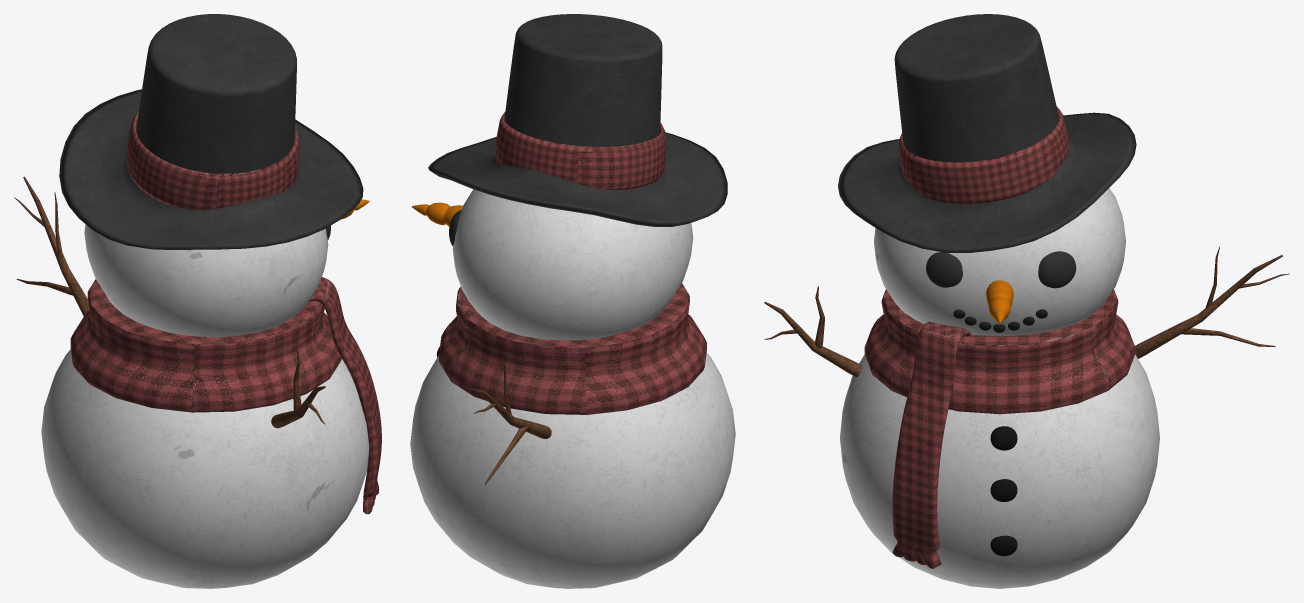
The model's file is snow_man_2.glb.
The picture shows the model from 3 angles, left to right: view 1: azimuth 30°, elevation 25°; view 2: azimuth 150°, elevation 25°; view 3: azimuth 270°, elevation 25°; orthographic projection.
Parts seen in each view (by area): view 1: pCube1, pCylinder1, pPipe1, pCube2, pCylinder2, sweep1, pCylinder11, pCylinder7; view 2: pCube1, pCylinder1, pCube2, pPipe1, pCylinder2, pCylinder11, pCone1; view 3: pCube1, pCylinder1, pCube2, pPipe1, sweep1, pCylinder2, pCylinder11, pCylinder7, pCube4, pCube3, pCone1.
Boxes of the visible parts, box(x1,y1,x2,y2) form: pCube1: box(41, 349, 369, 588); pCylinder1: box(59, 14, 363, 249); pPipe1: box(70, 279, 341, 412); pCube2: box(84, 224, 328, 336); pCylinder2: box(126, 111, 299, 210); sweep1: box(308, 277, 381, 514); pCylinder11: box(14, 176, 89, 316); pCylinder7: box(271, 351, 325, 428); pCube1: box(410, 353, 735, 588); pCylinder1: box(428, 14, 727, 226); pCube2: box(452, 189, 693, 340); pPipe1: box(439, 283, 706, 414); pCylinder2: box(495, 112, 665, 189); pCylinder11: box(470, 357, 551, 484); pCone1: box(411, 202, 462, 226); pCube1: box(840, 354, 1159, 588); pCylinder1: box(838, 14, 1136, 252); pCube2: box(874, 188, 1125, 336); pPipe1: box(864, 289, 1134, 414); sweep1: box(892, 321, 971, 568); pCylinder2: box(899, 106, 1069, 204); pCylinder11: box(1135, 246, 1289, 358); pCylinder7: box(764, 286, 861, 377); pCube4: box(1038, 251, 1076, 288); pCube3: box(926, 252, 962, 287); pCone1: box(986, 280, 1013, 323).
Size of the model in its own units: 3.18 by 5.41 by 4.82.
8 materials, 8 textured.
